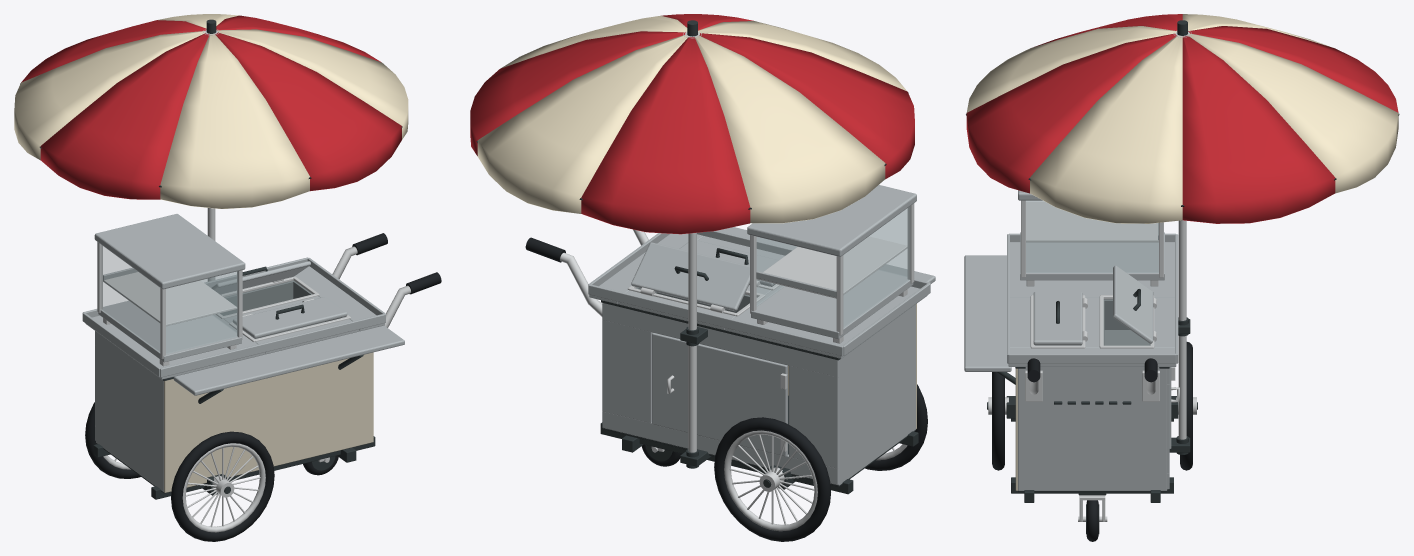
File: street_food_cart_LOD0.glb
The picture shows the model from 3 angles, left to right: view 1: azimuth 30°, elevation 25°; view 2: azimuth 150°, elevation 25°; view 3: azimuth 270°, elevation 25°; orthographic projection. The views are drawn at different scales.
Parts seen in each view (by area): view 1: cabinet_customer_wall, canopy_panel_5, canopy_panel_4, canopy_panel_6, canopy_panel_3, cabinet_far_end, display_roof, canopy_panel_7, customer_serving_shelf, display_customer_glass, display_tray, display_end_glass_-0.567 (+18 smaller); view 2: canopy_panel_2, canopy_panel_3, canopy_panel_1, fitted_service_door, canopy_panel_4, cabinet_far_end, canopy_panel_0, display_tray, display_roof, display_end_glass_-0.567, lid_back, service_back_jamb_0.455 (+28 smaller); view 3: canopy_panel_0, canopy_panel_7, cabinet_push_end, canopy_panel_6, canopy_panel_1, display_end_glass_-0.141, display_tray, customer_serving_shelf, canopy_panel_5, canopy_panel_2, display_mid_shelf, counter_display_base (+14 smaller).
Boxes of the visible parts, x1,y1,x2,y2 form: cabinet_customer_wall: (164, 352, 373, 492); canopy_panel_5: (160, 34, 309, 208); canopy_panel_4: (40, 33, 209, 199); canopy_panel_6: (215, 32, 401, 191); canopy_panel_3: (14, 31, 204, 160); cabinet_far_end: (96, 332, 163, 491); display_roof: (94, 214, 245, 289); canopy_panel_7: (217, 29, 408, 139); customer_serving_shelf: (173, 325, 404, 395); display_customer_glass: (166, 271, 237, 353); display_tray: (98, 300, 241, 362); display_end_glass_-0.567: (101, 245, 159, 351); canopy_panel_2: (581, 37, 750, 234); canopy_panel_3: (694, 35, 885, 223); canopy_panel_1: (477, 35, 688, 213); fitted_service_door: (652, 333, 787, 456); canopy_panel_4: (699, 33, 914, 179); cabinet_far_end: (838, 304, 915, 485); canopy_panel_0: (470, 31, 685, 155); display_tray: (751, 269, 913, 339); display_roof: (747, 185, 916, 256); display_end_glass_-0.567: (843, 207, 909, 327); lid_back: (631, 242, 749, 311); service_back_jamb_0.455: (602, 320, 652, 422); canopy_panel_0: (1182, 36, 1335, 223); canopy_panel_7: (1030, 35, 1182, 223); cabinet_push_end: (1018, 367, 1167, 490); canopy_panel_6: (966, 33, 1176, 193); canopy_panel_1: (1188, 33, 1398, 193); display_end_glass_-0.141: (1026, 201, 1158, 272); display_tray: (1020, 232, 1164, 280); customer_serving_shelf: (964, 255, 1011, 371); canopy_panel_5: (966, 26, 1176, 112); canopy_panel_2: (1188, 26, 1398, 112); display_mid_shelf: (1026, 201, 1158, 242); counter_display_base: (1010, 242, 1174, 297).
Bounding box in the file's own units: 1.89 × 2.31 × 1.89.
